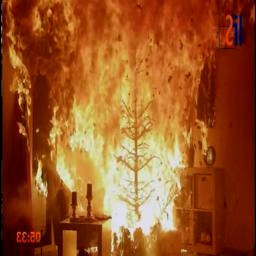fire: (14, 2, 251, 229)
